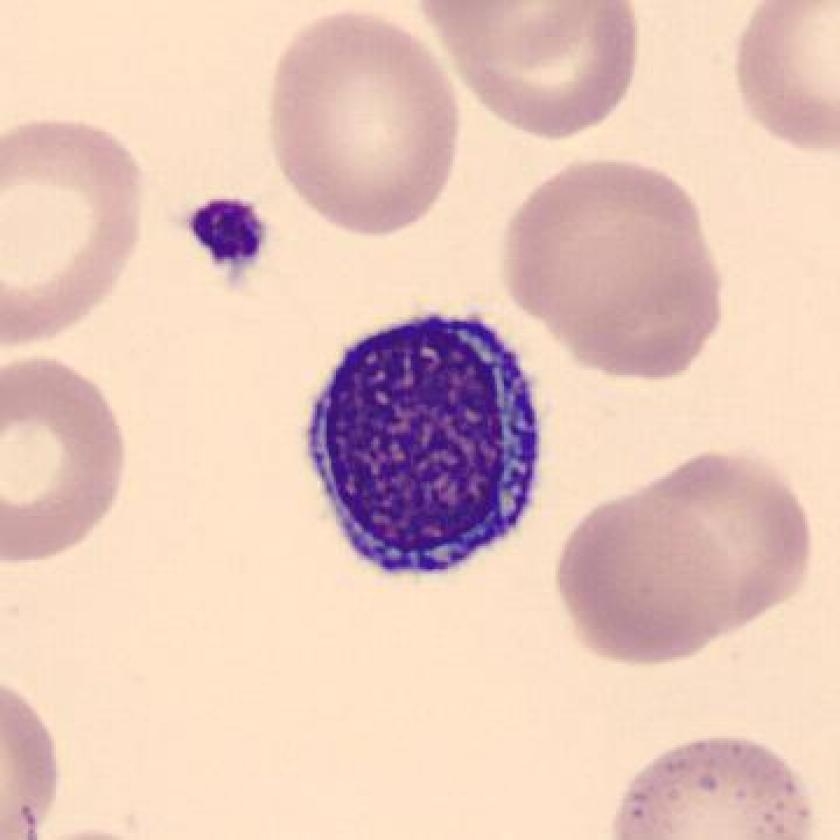lymphocyte: (297, 304, 566, 589)
